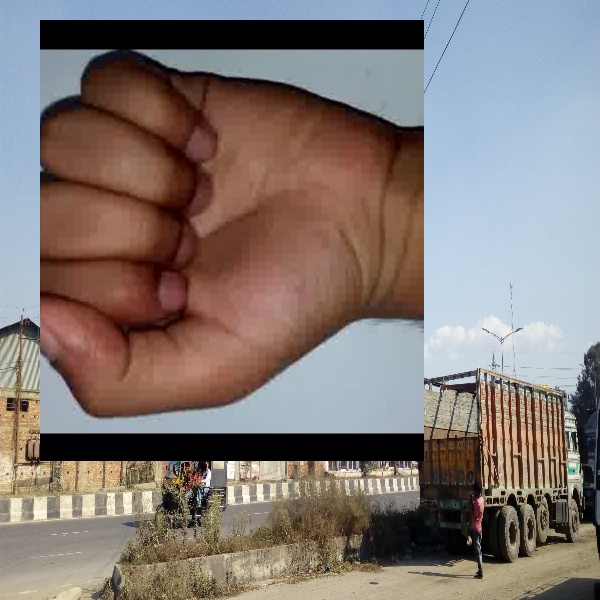A: (40, 20, 424, 461)
